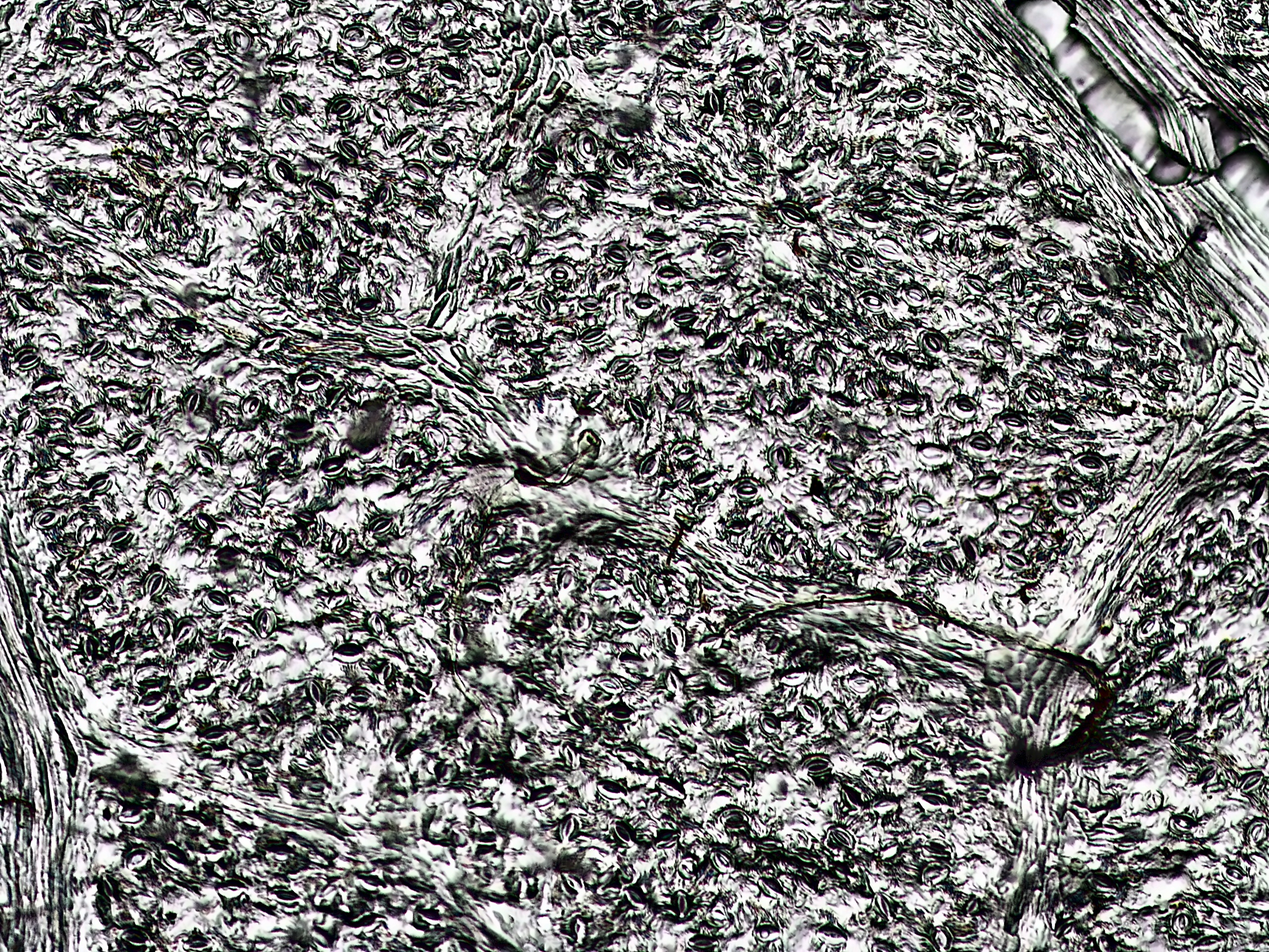stomata: (773, 200, 814, 232), (18, 249, 55, 280), (429, 540, 463, 572), (7, 289, 43, 319), (501, 869, 540, 896), (713, 805, 750, 833), (131, 664, 169, 691), (464, 579, 505, 604), (315, 721, 346, 754), (586, 14, 621, 43), (228, 125, 264, 153), (1146, 362, 1186, 387), (839, 779, 872, 809), (558, 739, 588, 772), (158, 844, 192, 873), (838, 247, 874, 274), (870, 236, 906, 263), (305, 179, 342, 205), (854, 289, 891, 315), (1043, 409, 1080, 435), (352, 869, 392, 893), (721, 762, 754, 791), (558, 870, 591, 899), (69, 109, 102, 138), (1070, 452, 1108, 477), (813, 924, 851, 949), (993, 410, 1031, 435), (651, 775, 686, 802), (77, 274, 118, 297), (413, 905, 450, 930), (187, 443, 221, 470), (1201, 891, 1239, 915), (1167, 812, 1205, 836), (349, 910, 387, 934), (920, 834, 956, 859), (799, 753, 835, 778), (858, 760, 894, 785), (600, 240, 634, 266), (968, 472, 1003, 497), (916, 442, 951, 467), (603, 700, 638, 725), (9, 347, 44, 372), (116, 927, 154, 950), (765, 442, 793, 473), (563, 914, 591, 945), (566, 604, 594, 635), (323, 95, 354, 123), (263, 843, 299, 867), (195, 838, 231, 862), (1004, 501, 1037, 527), (513, 672, 546, 698), (302, 675, 328, 708), (27, 507, 64, 530), (663, 621, 688, 655), (809, 347, 834, 381), (89, 5, 114, 39), (608, 818, 636, 848), (679, 931, 721, 951), (708, 898, 736, 928), (234, 750, 272, 772), (919, 861, 951, 887), (178, 178, 210, 204), (523, 784, 559, 807), (866, 139, 902, 162), (867, 697, 901, 721), (899, 283, 933, 307), (686, 700, 715, 728), (333, 135, 364, 161), (701, 86, 727, 117), (172, 616, 197, 648), (976, 140, 1014, 161), (577, 175, 613, 197), (146, 485, 174, 513), (1169, 904, 1196, 933), (926, 922, 953, 951), (624, 294, 658, 317), (910, 139, 944, 162), (918, 330, 948, 356), (964, 432, 995, 457), (314, 285, 345, 310), (949, 396, 980, 421), (1121, 298, 1152, 323), (657, 53, 692, 75), (610, 606, 642, 630), (1012, 174, 1044, 198), (655, 91, 687, 115), (378, 46, 410, 70), (195, 725, 233, 745), (179, 933, 219, 952), (115, 803, 151, 824), (623, 397, 651, 424), (530, 146, 559, 172), (179, 1, 208, 27), (410, 204, 440, 229), (122, 207, 147, 237), (1244, 816, 1268, 847), (1173, 600, 1204, 624), (756, 875, 787, 899), (868, 792, 899, 816), (555, 811, 579, 842), (216, 164, 247, 188), (163, 210, 187, 241), (575, 324, 606, 348), (173, 810, 210, 830), (858, 368, 881, 400), (647, 194, 679, 217), (328, 53, 360, 76), (1133, 613, 1160, 640), (982, 336, 1009, 363), (1020, 380, 1046, 408), (750, 921, 783, 943), (259, 446, 292, 468), (103, 525, 136, 547), (704, 240, 737, 262), (960, 273, 989, 298), (849, 209, 887, 228), (827, 826, 857, 850), (1053, 490, 1083, 514), (699, 633, 729, 657), (465, 738, 489, 768), (258, 554, 288, 578), (339, 23, 369, 47), (870, 470, 904, 491), (873, 891, 896, 922), (283, 416, 314, 439), (703, 332, 734, 355), (344, 687, 376, 709), (543, 263, 575, 285), (1034, 239, 1066, 261), (897, 88, 929, 110), (531, 291, 558, 317), (225, 27, 252, 53), (918, 790, 953, 810), (593, 779, 628, 799), (432, 759, 460, 784), (260, 230, 288, 255), (1213, 695, 1242, 719), (390, 563, 414, 592), (409, 670, 433, 699), (388, 735, 417, 759), (783, 397, 812, 421), (200, 589, 230, 612), (302, 927, 332, 950), (938, 300, 961, 330), (575, 131, 598, 161), (70, 84, 101, 106), (828, 392, 859, 414), (984, 223, 1015, 245), (124, 49, 155, 71), (394, 447, 420, 473), (636, 452, 662, 478), (668, 889, 693, 916), (423, 425, 448, 452), (1034, 301, 1061, 326), (855, 78, 882, 103), (754, 711, 782, 735), (253, 607, 274, 639), (122, 846, 150, 870), (233, 487, 265, 508), (404, 160, 432, 184), (206, 639, 235, 662), (78, 585, 107, 608), (607, 120, 636, 143), (330, 642, 365, 661), (1220, 863, 1250, 885), (718, 731, 748, 753), (730, 478, 760, 500), (537, 198, 570, 218), (486, 315, 519, 335), (858, 183, 891, 203), (671, 168, 704, 188), (176, 51, 209, 71), (1087, 872, 1118, 893), (958, 534, 979, 565), (825, 455, 856, 476), (880, 353, 911, 374), (1007, 268, 1028, 299), (655, 264, 686, 285), (795, 698, 820, 724), (350, 420, 375, 446), (192, 131, 218, 156), (825, 479, 852, 503), (267, 157, 291, 184), (934, 162, 961, 186), (434, 63, 461, 87), (708, 848, 736, 871), (830, 536, 853, 564), (661, 668, 684, 696), (157, 122, 180, 150), (946, 229, 969, 257), (807, 76, 835, 99), (631, 568, 651, 600), (595, 674, 627, 694), (587, 577, 619, 597), (351, 296, 383, 316), (670, 441, 702, 461), (1070, 282, 1102, 302), (878, 538, 907, 560), (77, 635, 99, 664), (81, 337, 110, 359), (738, 150, 767, 172), (604, 151, 633, 173), (464, 800, 499, 818), (366, 515, 396, 536), (1081, 373, 1116, 391), (961, 190, 991, 211), (135, 692, 168, 711), (440, 35, 473, 54), (264, 55, 297, 74), (804, 291, 828, 317), (429, 139, 455, 163), (365, 101, 389, 127), (782, 507, 805, 534), (191, 512, 218, 535), (844, 671, 875, 691), (348, 218, 379, 238), (252, 706, 280, 728), (93, 895, 115, 923), (118, 3, 146, 25), (1001, 551, 1030, 572), (138, 387, 159, 416), (606, 356, 635, 377), (216, 879, 248, 898), (168, 317, 200, 336), (118, 113, 150, 132), (933, 551, 957, 576), (648, 573, 668, 603), (401, 91, 431, 111), (1221, 563, 1247, 586), (793, 871, 819, 894), (1037, 530, 1063, 553), (74, 522, 97, 548), (913, 222, 939, 245), (514, 374, 549, 391), (920, 712, 942, 739), (875, 841, 902, 863), (365, 611, 387, 638), (234, 675, 256, 702), (49, 39, 86, 55), (126, 347, 157, 366), (1185, 556, 1213, 577), (445, 618, 466, 646), (829, 140, 850, 168), (699, 11, 727, 32), (373, 183, 393, 212), (842, 40, 871, 60), (1191, 935, 1225, 952), (99, 380, 131, 398), (948, 101, 980, 119), (762, 534, 785, 559), (105, 179, 130, 202), (444, 826, 466, 852), (86, 473, 112, 495), (1220, 14, 1246, 36), (288, 755, 318, 774), (1060, 323, 1090, 342), (1170, 723, 1197, 744), (144, 571, 165, 598), (96, 873, 117, 900), (179, 392, 206, 413), (511, 235, 532, 262), (650, 14, 677, 35), (1151, 644, 1179, 664), (214, 546, 245, 564), (314, 458, 345, 476), (687, 472, 718, 490), (28, 378, 65, 393), (297, 230, 320, 254), (277, 94, 300, 118), (996, 529, 1025, 548), (759, 15, 788, 34), (621, 887, 646, 909), (567, 709, 592, 731), (477, 528, 502, 550), (108, 629, 130, 654), (122, 432, 147, 454), (50, 179, 75, 201), (854, 424, 880, 445), (903, 181, 929, 202), (954, 71, 980, 92), (212, 71, 238, 92), (790, 845, 817, 865), (780, 669, 810, 687), (185, 676, 215, 694), (312, 881, 339, 901), (46, 437, 76, 455), (254, 334, 284, 352), (174, 98, 210, 113), (574, 295, 601, 315), (894, 394, 924, 412), (911, 741, 939, 760), (1240, 772, 1263, 795), (504, 276, 527, 299), (772, 106, 795, 129), (1203, 656, 1227, 678), (713, 667, 735, 691), (239, 396, 263, 418), (641, 231, 674, 247), (682, 33, 707, 54), (651, 347, 680, 365), (1109, 335, 1138, 353), (556, 565, 576, 591), (738, 342, 757, 369), (490, 547, 520, 564), (912, 498, 935, 520), (95, 558, 118, 580), (1140, 581, 1164, 602), (1251, 582, 1269, 610), (71, 410, 99, 428), (39, 103, 63, 124), (831, 705, 851, 730), (654, 830, 679, 850), (487, 251, 507, 276), (31, 466, 64, 481), (579, 390, 605, 409), (268, 887, 297, 904), (729, 58, 758, 75), (961, 893, 983, 915), (762, 72, 784, 94), (1246, 849, 1269, 870), (394, 127, 417, 148), (397, 15, 420, 36), (1232, 664, 1256, 684), (336, 251, 360, 271), (268, 273, 288, 297), (669, 310, 699, 326), (131, 155, 159, 172), (376, 662, 395, 687), (297, 371, 322, 390), (891, 733, 909, 759), (755, 837, 784, 853), (859, 511, 888, 527), (676, 857, 698, 878), (673, 392, 694, 414), (834, 334, 857, 354), (61, 472, 86, 490), (739, 100, 764, 118), (149, 712, 175, 729), (151, 615, 168, 641), (764, 339, 786, 359), (508, 728, 521, 761), (1095, 931, 1116, 951), (1055, 918, 1075, 939), (1197, 518, 1218, 538), (794, 545, 814, 566), (326, 532, 346, 553), (17, 412, 38, 432), (796, 42, 818, 61), (957, 736, 982, 752), (1143, 789, 1162, 810), (831, 862, 853, 880), (424, 592, 446, 610), (278, 532, 301, 549), (1253, 535, 1267, 562), (28, 124, 55, 138), (50, 542, 75, 557), (1221, 506, 1236, 530), (380, 124, 395, 148), (725, 519, 746, 536), (1166, 569, 1182, 591), (293, 509, 316, 524), (238, 723, 262, 737), (40, 415, 66, 427), (767, 632, 781, 654), (768, 670, 783, 690), (545, 328, 566, 342), (63, 556, 78, 575), (526, 341, 547, 354), (78, 565, 98, 578)
